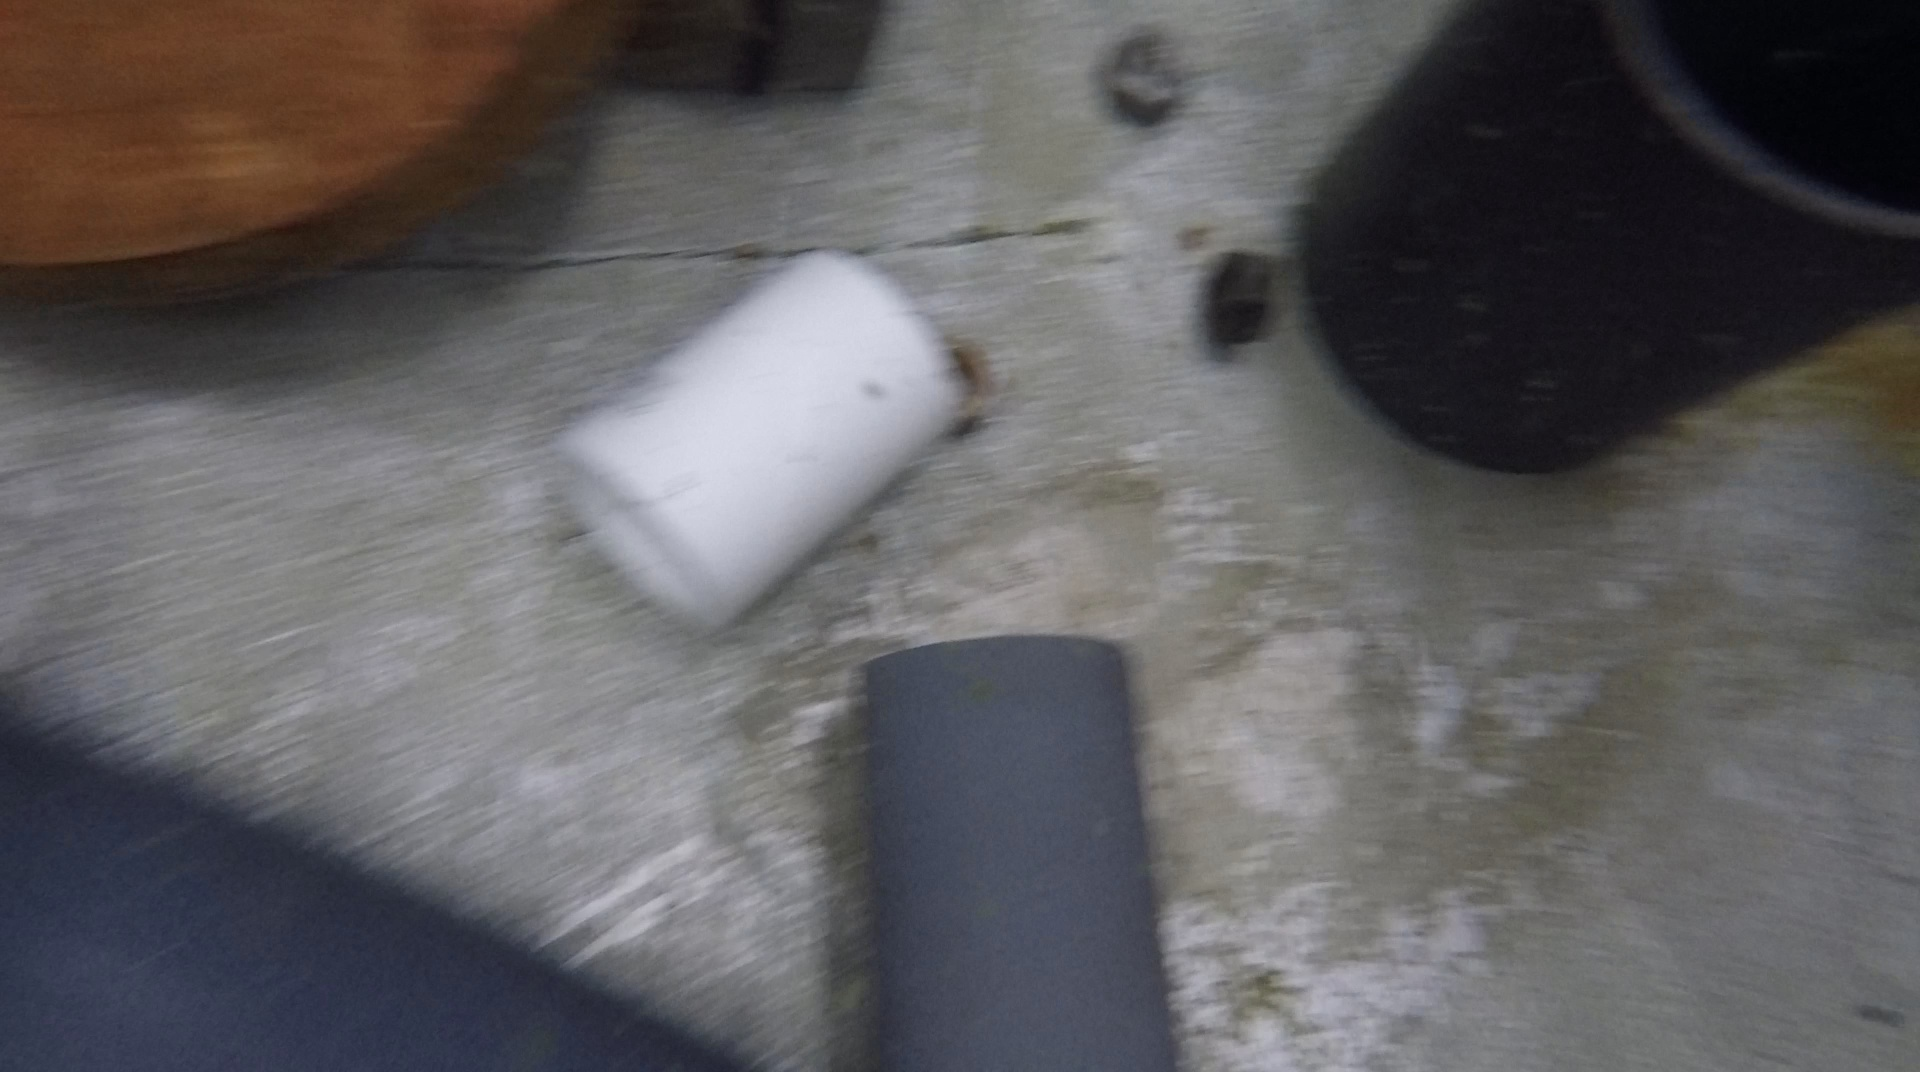flange: (1, 1, 640, 310)
led_block: (626, 1, 882, 94)
nut: (1106, 25, 1185, 115), (1211, 244, 1278, 347)
pipe: (1300, 1, 1920, 476), (1, 701, 756, 1071), (549, 251, 964, 630), (862, 632, 1178, 1072)
